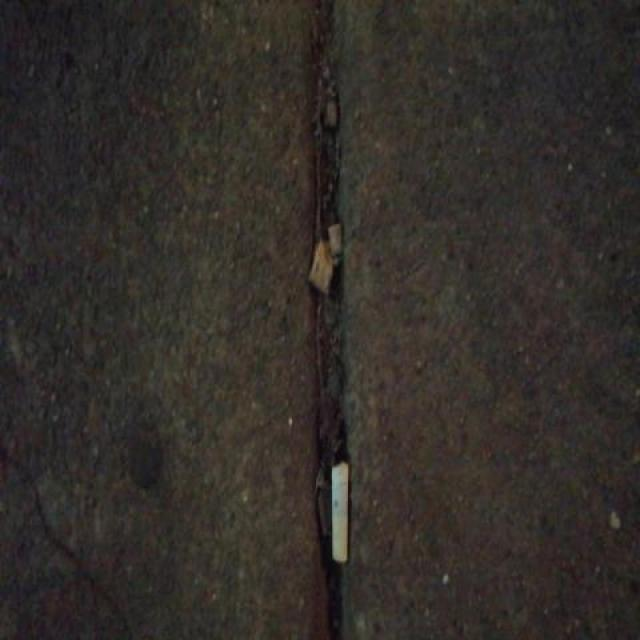non-organic waste: (327, 458, 353, 566)
